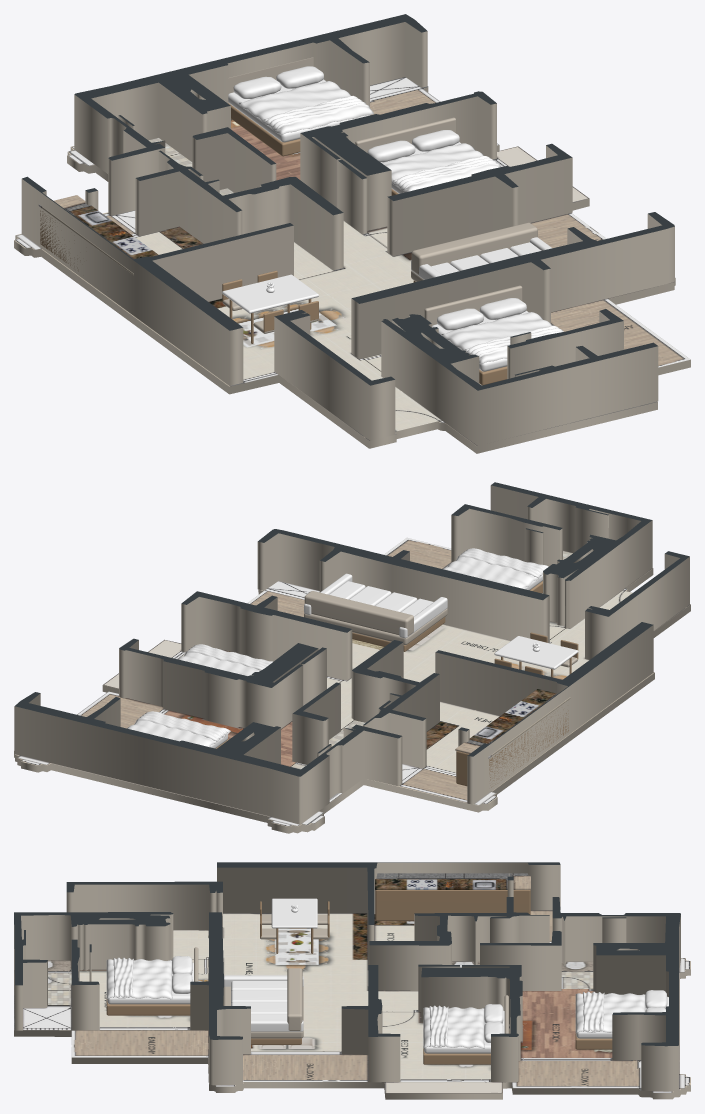
3 views of the same model, one above another, from view 1: azimuth 30°, elevation 25°; view 2: azimuth 150°, elevation 25°; view 3: azimuth 270°, elevation 25° (orthographic). The views are drawn at different scales.
Visible parts, largest first — view 1: Partition walls, Apartment floor, Draped bed linen.004, Sofa back, Draped bed linen.002, Stone worktop, Draped bed linen, Marble dining top, Draped bed linen.005, Upholstered headboard, Draped bed linen.003, Upholstered headboard.001 (+10 smaller); view 2: Partition walls, Apartment floor, Sofa back, Stone worktop, Marble dining top, Draped bed linen, Kitchen cabinets, Draped bed linen.004, Upholstered sofa frame, Draped bed linen.005, Draped bed linen.001, Draped bed linen.002 (+3 smaller); view 3: Partition walls, Apartment floor, Kitchen cabinets, Stone worktop, Draped bed linen, Draped bed linen.002, Marble dining top, Draped bed linen.004, Walnut upholstered base, Sofa back, Walnut upholstered base.001, Draped bed linen.005 (+13 smaller).
Boxes of the visible parts, bbox=[...] form: Partition walls: bbox=[21, 14, 674, 445]; Apartment floor: bbox=[14, 77, 690, 453]; Draped bed linen.004: bbox=[238, 81, 373, 134]; Sofa back: bbox=[411, 222, 537, 274]; Draped bed linen.002: bbox=[382, 143, 500, 192]; Stone worktop: bbox=[38, 195, 158, 275]; Draped bed linen: bbox=[441, 312, 552, 363]; Marble dining top: bbox=[222, 274, 318, 313]; Draped bed linen.005: bbox=[263, 95, 369, 130]; Upholstered headboard: bbox=[424, 285, 522, 325]; Draped bed linen.003: bbox=[393, 156, 500, 190]; Upholstered headboard.001: bbox=[355, 117, 456, 152]; Partition walls: bbox=[14, 482, 689, 824]; Apartment floor: bbox=[14, 537, 690, 833]; Sofa back: bbox=[304, 591, 413, 635]; Stone worktop: bbox=[455, 689, 570, 758]; Marble dining top: bbox=[494, 636, 578, 669]; Draped bed linen: bbox=[443, 549, 548, 588]; Kitchen cabinets: bbox=[456, 709, 568, 787]; Draped bed linen.004: bbox=[127, 711, 230, 746]; Upholstered sofa frame: bbox=[304, 608, 447, 645]; Draped bed linen.005: bbox=[136, 711, 227, 741]; Draped bed linen.001: bbox=[457, 548, 546, 578]; Draped bed linen.002: bbox=[178, 645, 272, 675]; Partition walls: bbox=[14, 862, 680, 1091]; Apartment floor: bbox=[14, 910, 690, 1099]; Kitchen cabinets: bbox=[375, 890, 530, 921]; Stone worktop: bbox=[375, 873, 530, 889]; Draped bed linen: bbox=[106, 959, 172, 999]; Draped bed linen.002: bbox=[423, 1007, 484, 1048]; Marble dining top: bbox=[271, 898, 317, 928]; Draped bed linen.004: bbox=[575, 993, 645, 1032]; Walnut upholstered base: bbox=[106, 999, 190, 1015]; Sofa back: bbox=[287, 968, 302, 1030]; Walnut upholstered base.001: bbox=[423, 1048, 490, 1064]; Draped bed linen.005: bbox=[582, 991, 604, 1031].
Bounding box in the file's own units: 10.27 × 1.3 × 15.41.
9 materials, 1 textured.
